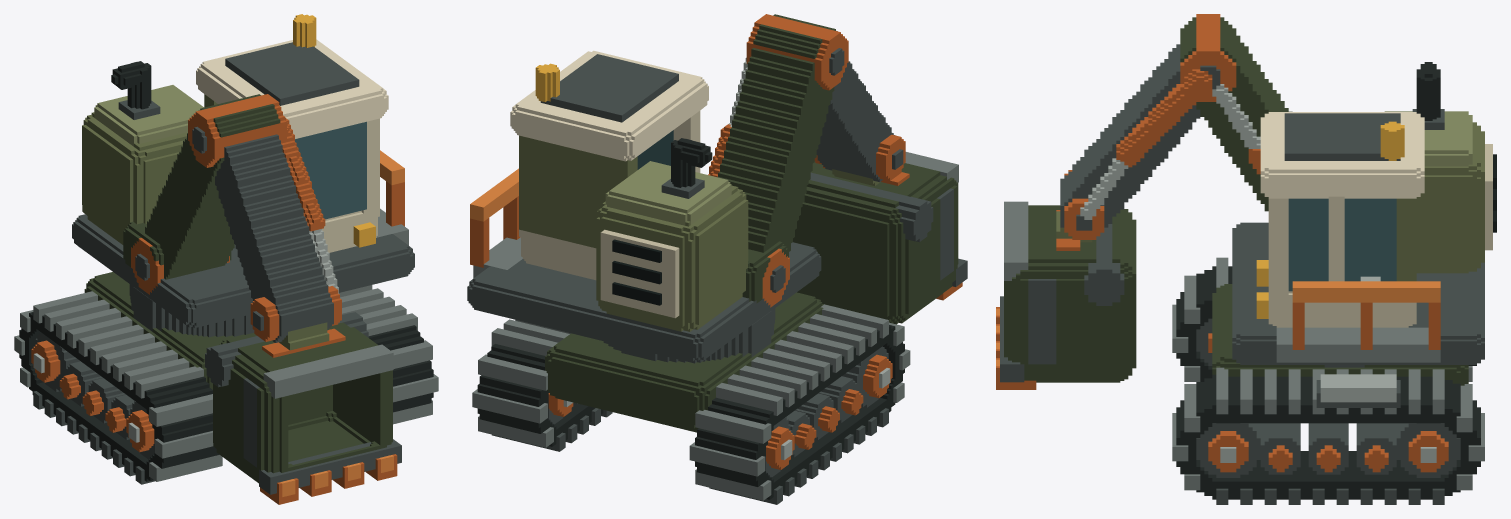
The model's file is excavator.glb.
The picture shows the model from 3 angles, left to right: view 1: azimuth 30°, elevation 25°; view 2: azimuth 150°, elevation 25°; view 3: azimuth 270°, elevation 25°; orthographic projection. The views are drawn at different scales.
Parts seen in each view (by area): view 1: excavator; view 2: excavator; view 3: excavator.
Boxes of the visible parts, x1,y1,x2,y2 form: excavator: (14,14,438,504); excavator: (467,14,967,504); excavator: (996,14,1496,504).
Bounding box in the file's own units: 3.25 × 3.64 × 4.38.
